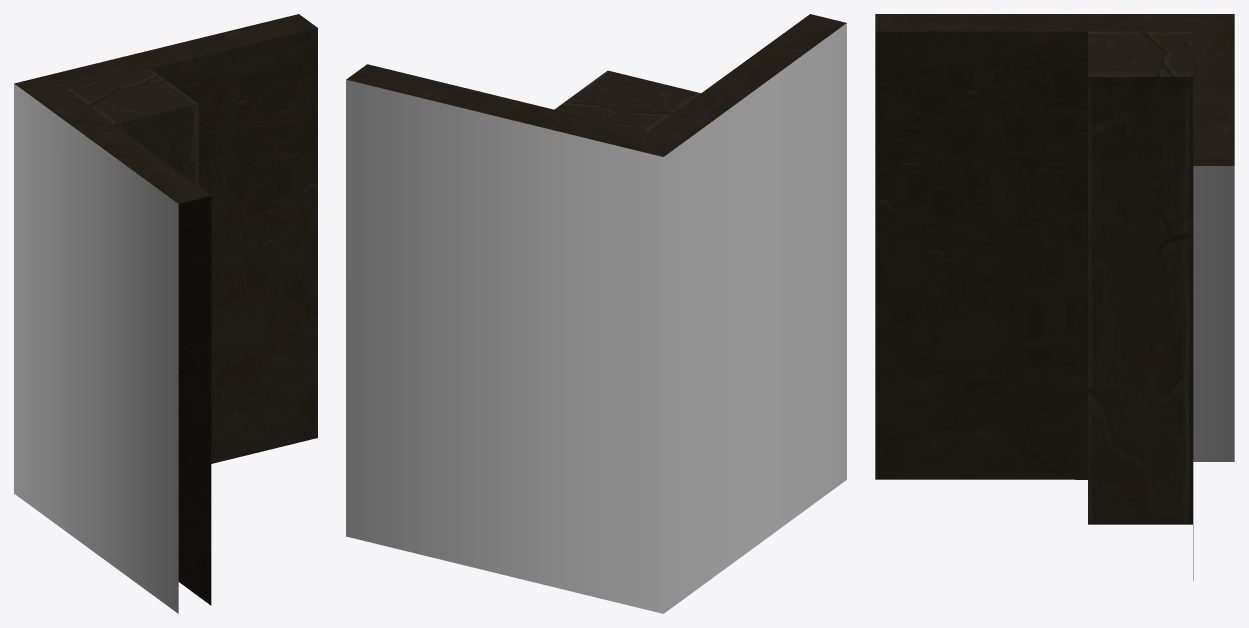
Rendered from fortress_wall_concave_02.fbx.
3 views of the same model, side by side, from view 1: azimuth 30°, elevation 25°; view 2: azimuth 150°, elevation 25°; view 3: azimuth 270°, elevation 25° (orthographic). The views are drawn at different scales.
Visible parts, largest first — view 1: fortress_wall_concave_02-0; view 2: fortress_wall_concave_02-0; view 3: fortress_wall_concave_02-0.
Boxes of the visible parts, x1,y1,x2,y2 form: fortress_wall_concave_02-0: (14,14,317,613); fortress_wall_concave_02-0: (346,14,846,613); fortress_wall_concave_02-0: (875,14,1234,580).
Size of the model in its own units: 4 by 5.5 by 4.
